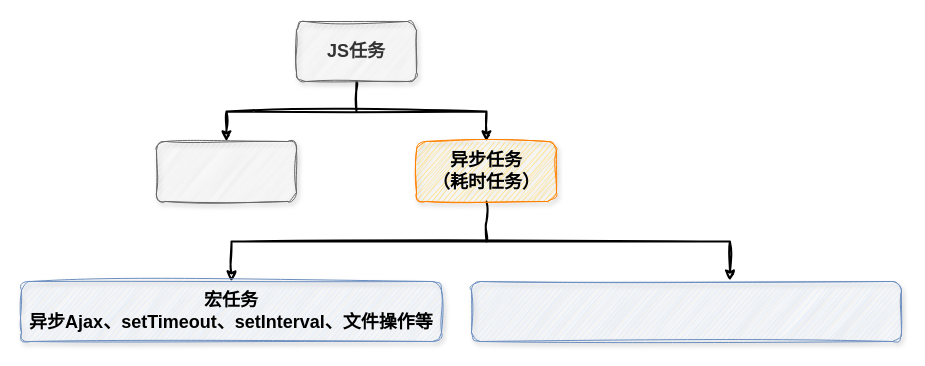
This 925x366 diagram has some shape labels left out. Here are the shapes that lost their labels. From the top down, the centre of each, then its label:
At point 227,172: "同步任务 （非耗时任务）".
At point 687,312: "微任务 Promise.then、Promise.catch、Promise.finally等".
